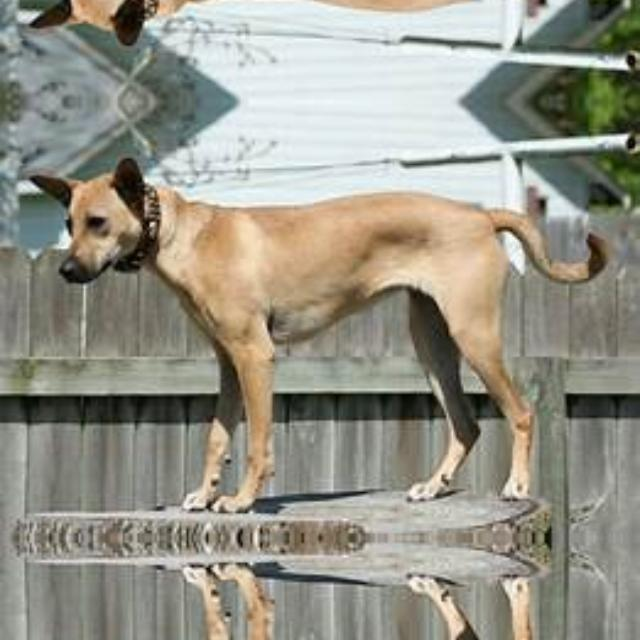dog: (49, 148, 630, 500), (49, 574, 630, 640), (49, 0, 630, 54)
